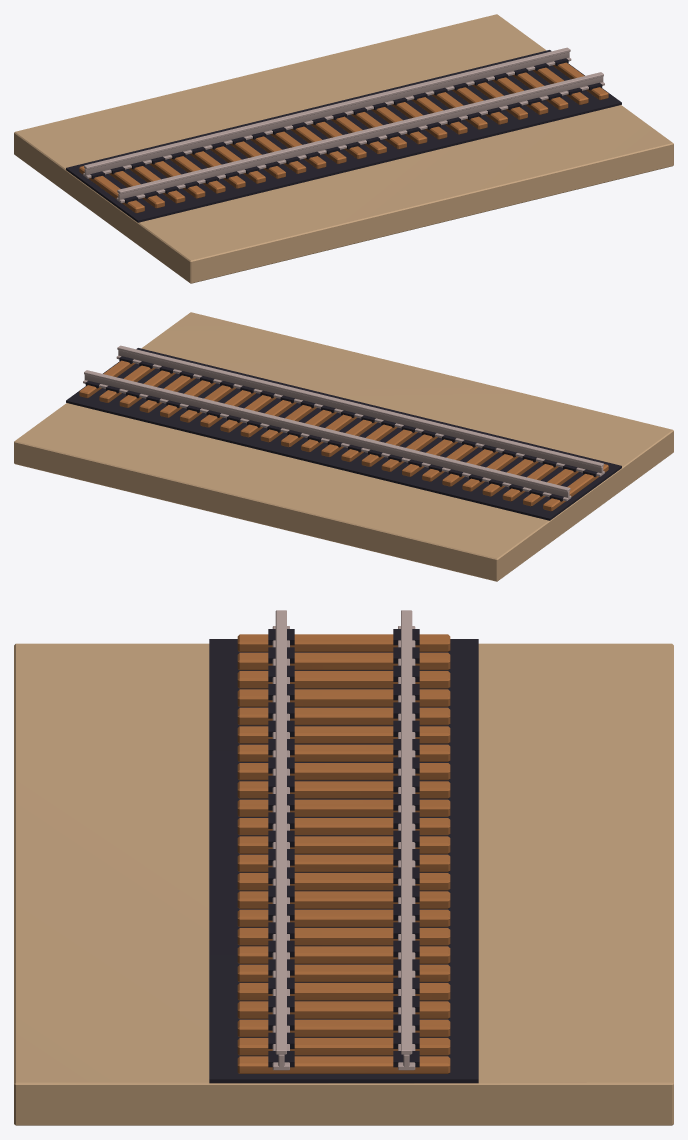
3 views of the same model, one above another, from view 1: azimuth 30°, elevation 25°; view 2: azimuth 150°, elevation 25°; view 3: azimuth 270°, elevation 25° (orthographic). The views are drawn at different scales.
Parts seen in each view (by area): view 1: body_pal_khakiLight, body_pal_uiDark, body_pal_sidewalk, body_pal_woodWarm; view 2: body_pal_khakiLight, body_pal_uiDark, body_pal_sidewalk, body_pal_woodWarm; view 3: body_pal_khakiLight, body_pal_woodWarm, body_pal_uiDark, body_pal_sidewalk.
Part boxes in pixels (x1=…): body_pal_khakiLight: x1=14, y1=14, x2=673, y2=283; body_pal_uiDark: x1=66, y1=50, x2=621, y2=222; body_pal_sidewalk: x1=83, y1=47, x2=604, y2=203; body_pal_woodWarm: x1=79, y1=62, x2=608, y2=213; body_pal_khakiLight: x1=14, y1=312, x2=673, y2=581; body_pal_uiDark: x1=66, y1=348, x2=621, y2=520; body_pal_sidewalk: x1=83, y1=345, x2=604, y2=501; body_pal_woodWarm: x1=79, y1=360, x2=608, y2=511; body_pal_khakiLight: x1=14, y1=643, x2=673, y2=1125; body_pal_woodWarm: x1=237, y1=634, x2=450, y2=1073; body_pal_uiDark: x1=209, y1=629, x2=478, y2=1083; body_pal_sidewalk: x1=272, y1=610, x2=415, y2=1070.
Size of the model in its own units: 12 by 0.97 by 7.6.
